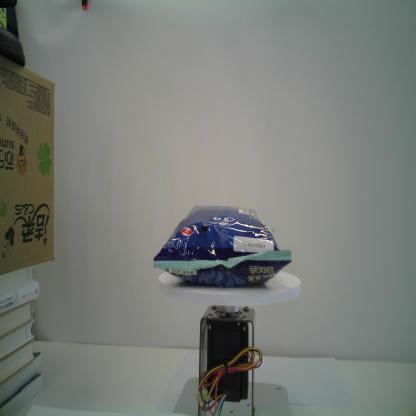Puffed Food: (153, 204, 292, 288)
